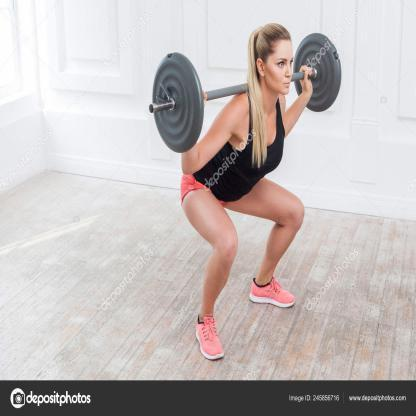barbell: (150, 33, 341, 154)
